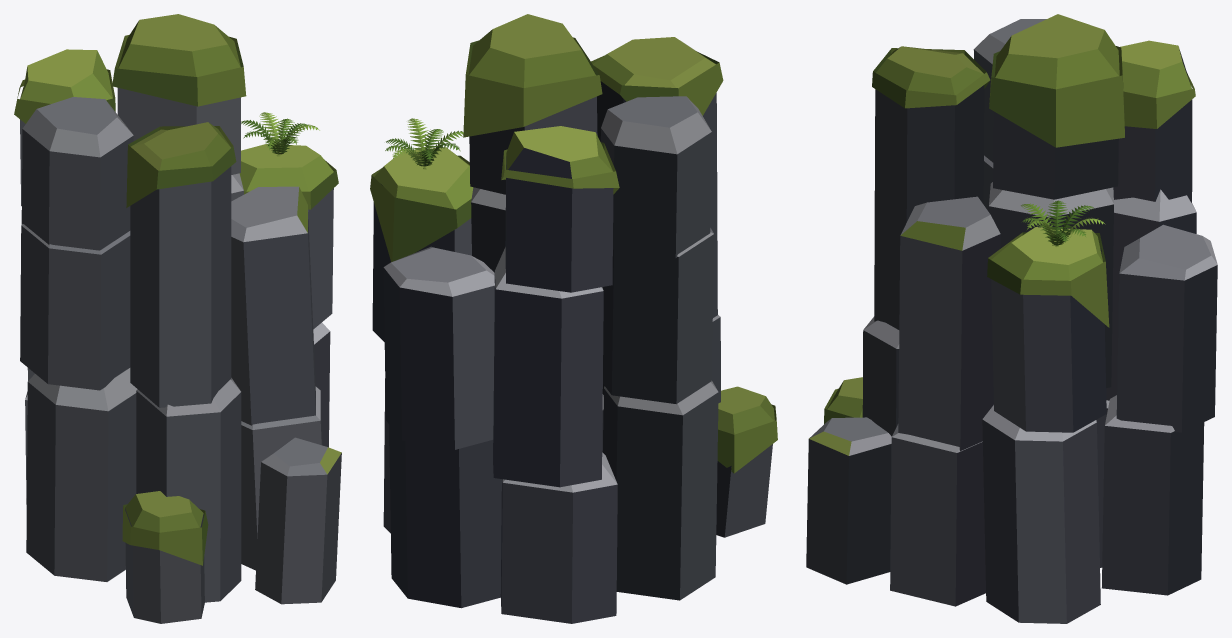
File: wf_basalt_columns.glb
3 views of the same model, side by side, from view 1: azimuth 30°, elevation 25°; view 2: azimuth 150°, elevation 25°; view 3: azimuth 270°, elevation 25° (orthographic). The views are drawn at different scales.
Parts seen in each view (by area): view 1: wf_basalt_columns; view 2: wf_basalt_columns; view 3: wf_basalt_columns.
Part boxes in pixels (<box>): wf_basalt_columns: <box>14,14,341,623</box>; wf_basalt_columns: <box>370,14,777,623</box>; wf_basalt_columns: <box>806,14,1217,623</box>.
Bounding box in the file's own units: 4.43 × 7.01 × 5.06.
